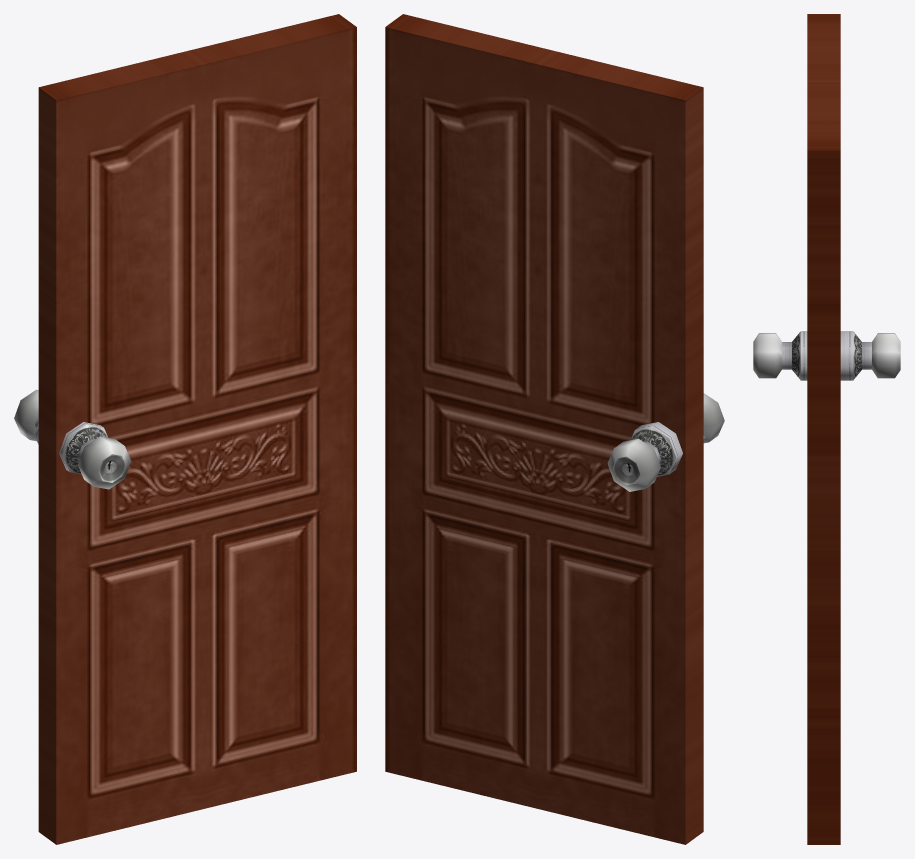
File: Door_B.fbx
3 views of the same model, side by side, from view 1: azimuth 30°, elevation 25°; view 2: azimuth 150°, elevation 25°; view 3: azimuth 270°, elevation 25° (orthographic). The views are drawn at different scales.
Parts seen in each view (by area): view 1: DoorB, Doorknob.001; view 2: DoorB, Doorknob.001; view 3: DoorB, Doorknob.001.
Boxes of the visible parts, bbox=[...] form: DoorB: bbox=[38, 14, 356, 844]; Doorknob.001: bbox=[14, 389, 131, 489]; DoorB: bbox=[385, 14, 703, 844]; Doorknob.001: bbox=[607, 393, 724, 491]; DoorB: bbox=[807, 14, 840, 844]; Doorknob.001: bbox=[753, 331, 900, 380].
Bounding box in the file's own units: 76.69 × 182 × 34.98.
